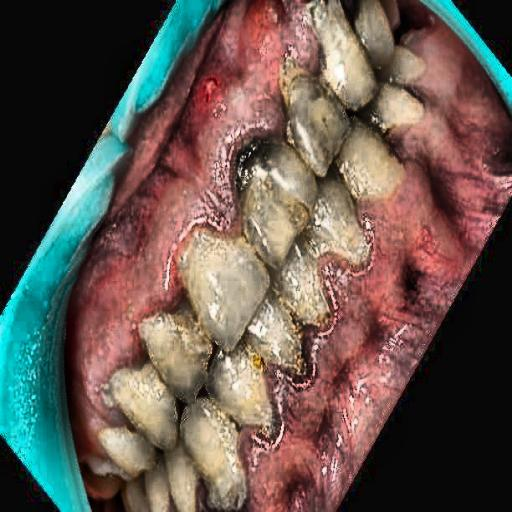Calculus: (276, 0, 419, 249), (108, 289, 217, 432), (193, 124, 270, 281), (255, 293, 345, 411)
